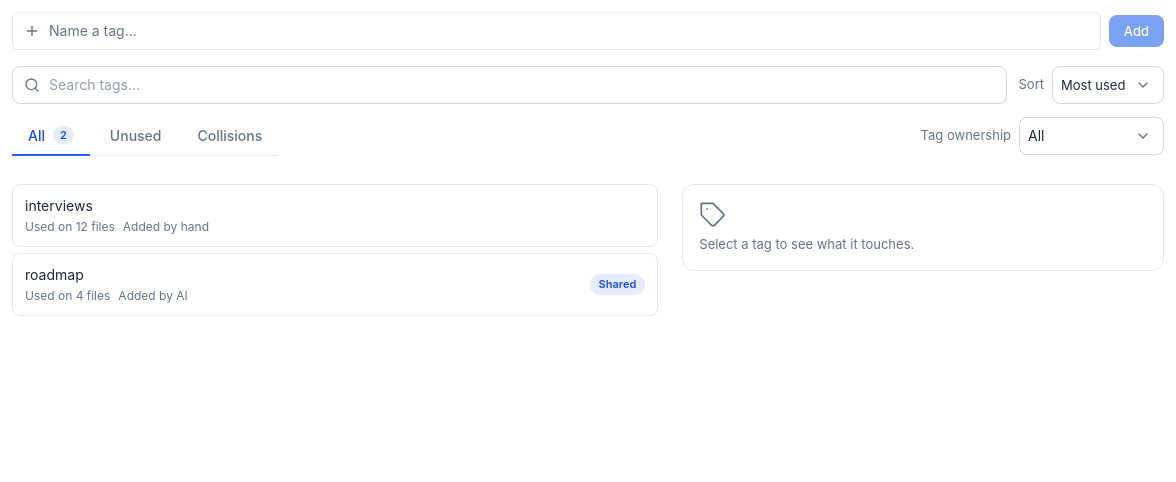
tag manager modal › selection › shows the detail pane for one tag and the bulk summary for several
Click the option "interviews Used on 12 files Added by hand" at (59, 206), box x1=12 y1=184 x2=658 y2=247
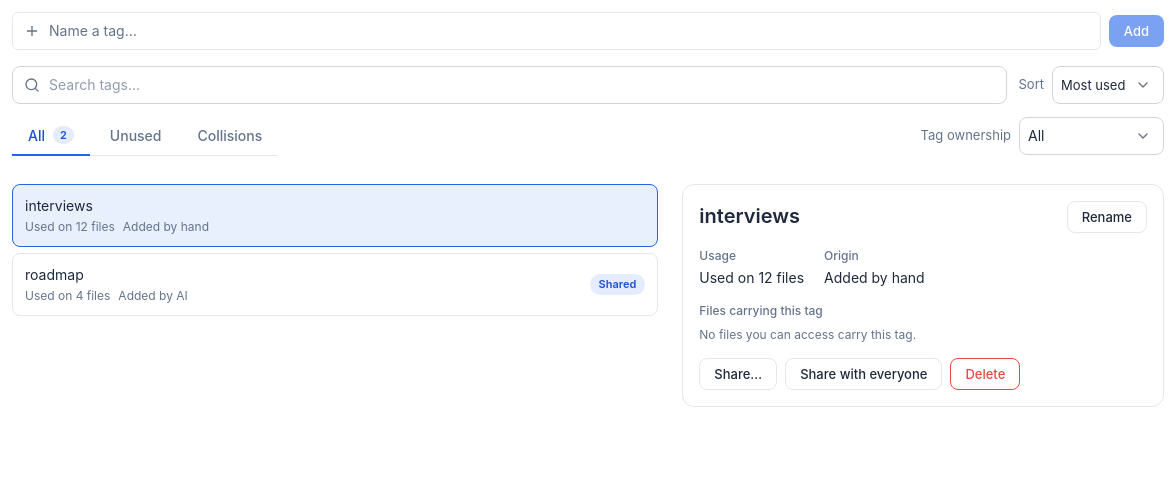
Expected: the text "Which tag survives the merge?" is not shown
Expected: the heading "interviews" is shown, x1=699 y1=201 x2=800 y2=231
Click the option "roadmap Used on 4 files Added by AI Shared" at (54, 274), box x1=12 y1=253 x2=658 y2=316
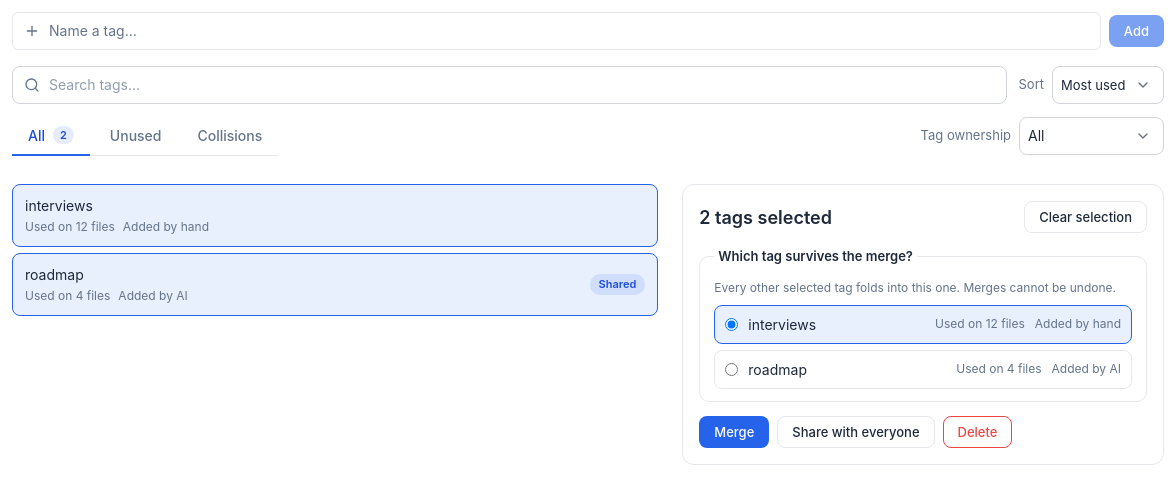
Expected: the heading "2 tags selected" is shown, x1=699 y1=204 x2=832 y2=230
Expected: the text "Which tag survives the merge?" is shown, x1=714 y1=247 x2=917 y2=266
